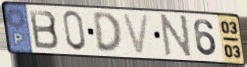0: (61, 9, 88, 54)
6: (192, 18, 219, 58)
B: (27, 8, 61, 51)
D: (91, 11, 125, 55)
N: (159, 13, 193, 60)
V: (120, 12, 152, 57)
